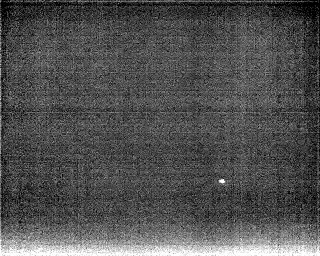AIRPLANE: (217, 176, 227, 186)
